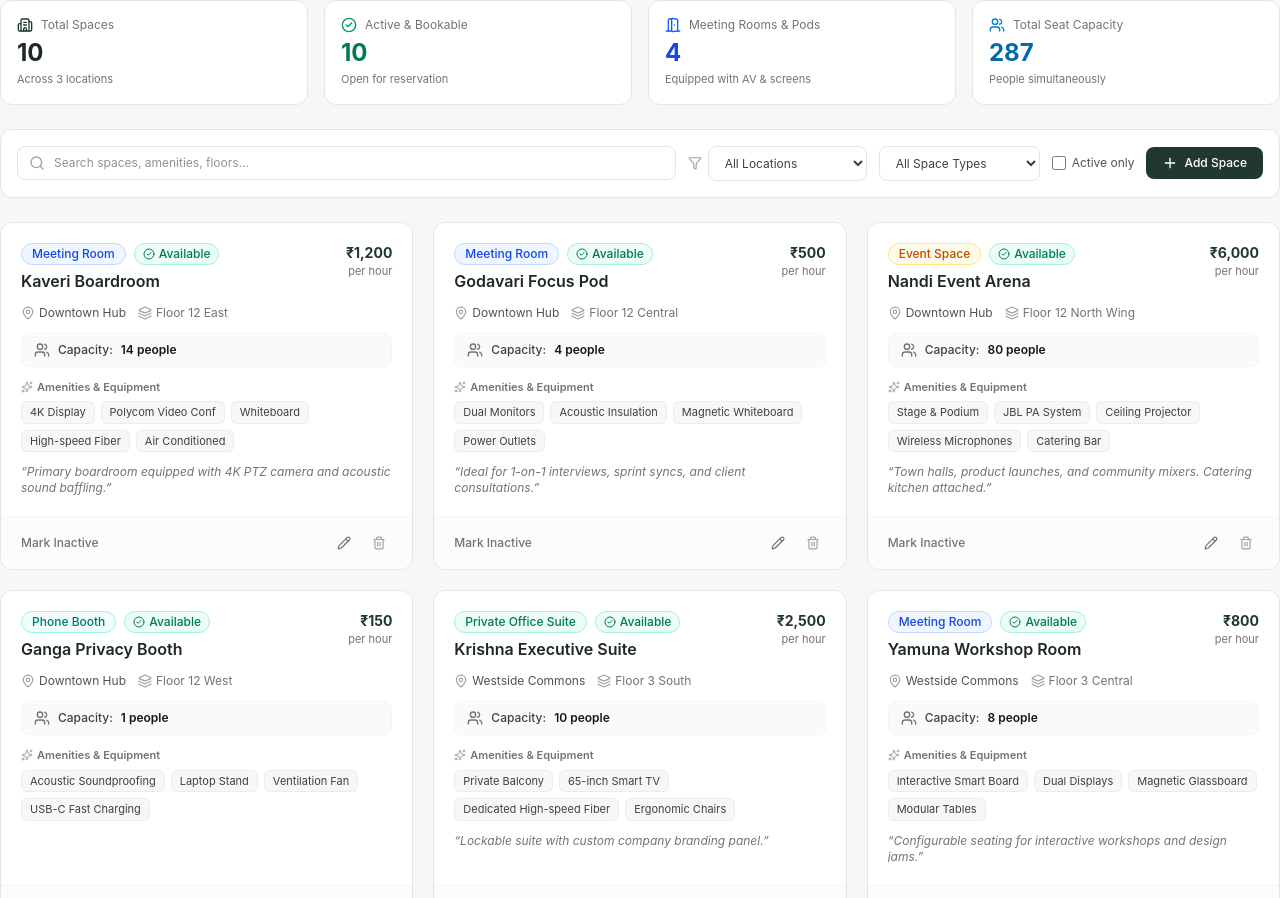
SpacesDirectory Component › opens add space modal when clicking Add Space button
Click the button "Add Space". click: (1205, 163)
box: [1146,147,1263,179]
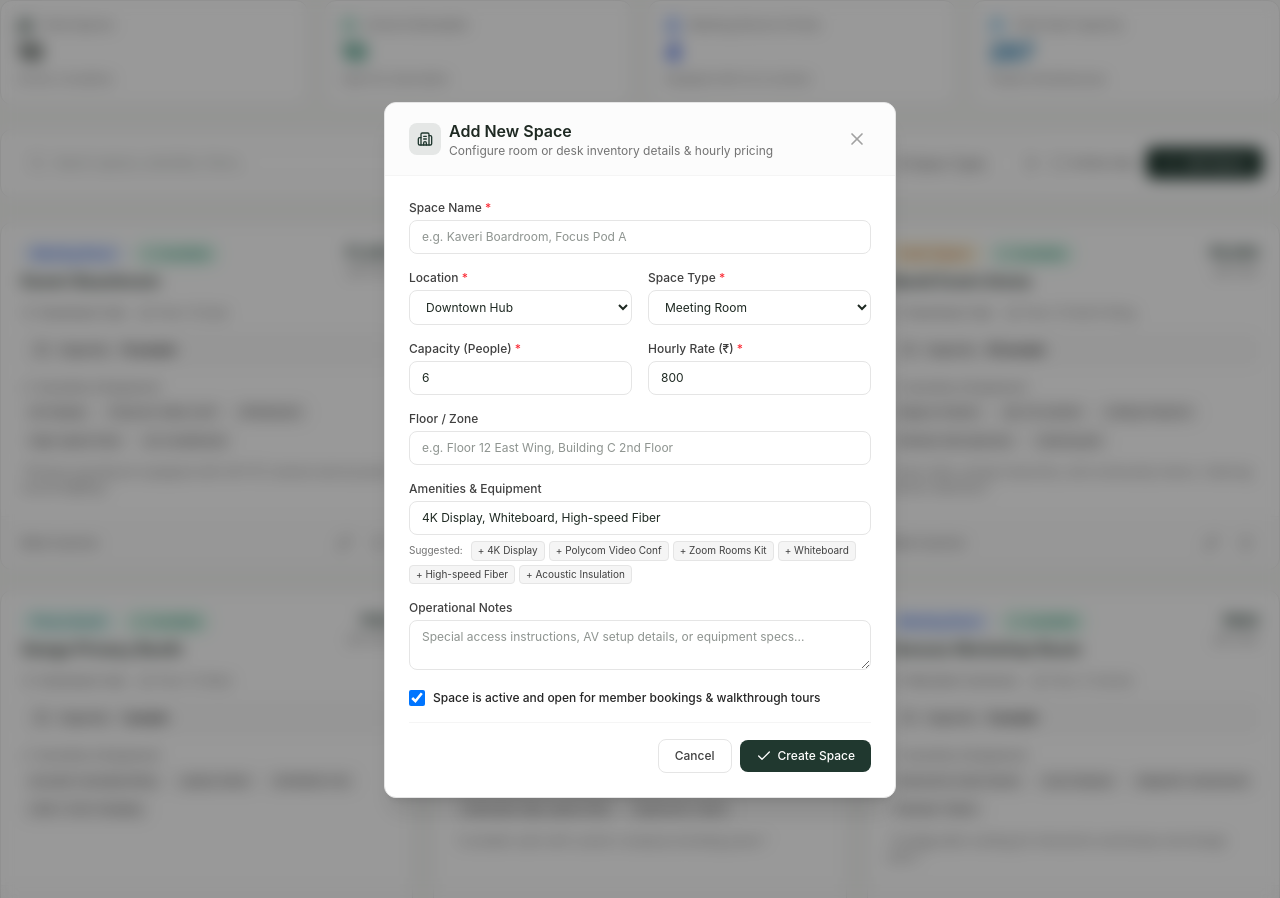
Check: the heading "Add New Space" is shown, box [449,121,572,141]
Check: the field with placeholder "e.g. Kaveri Boardroom, Focus Pod A" is shown, box [409,220,871,254]
